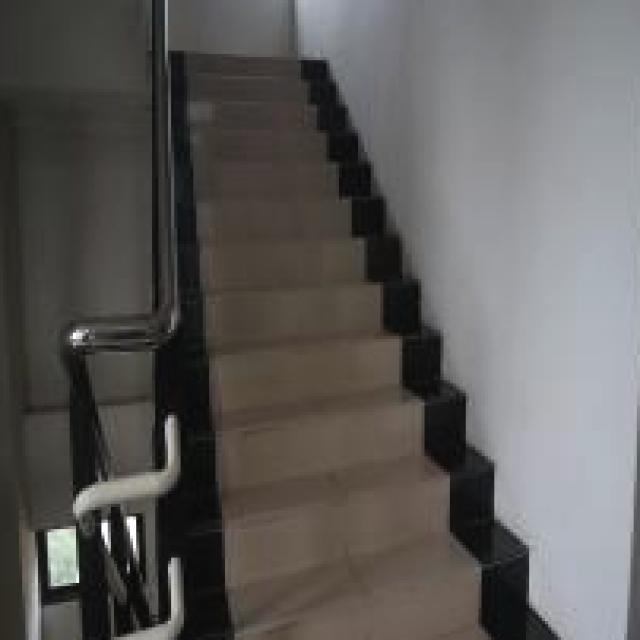upstair: (178, 86, 498, 640)
